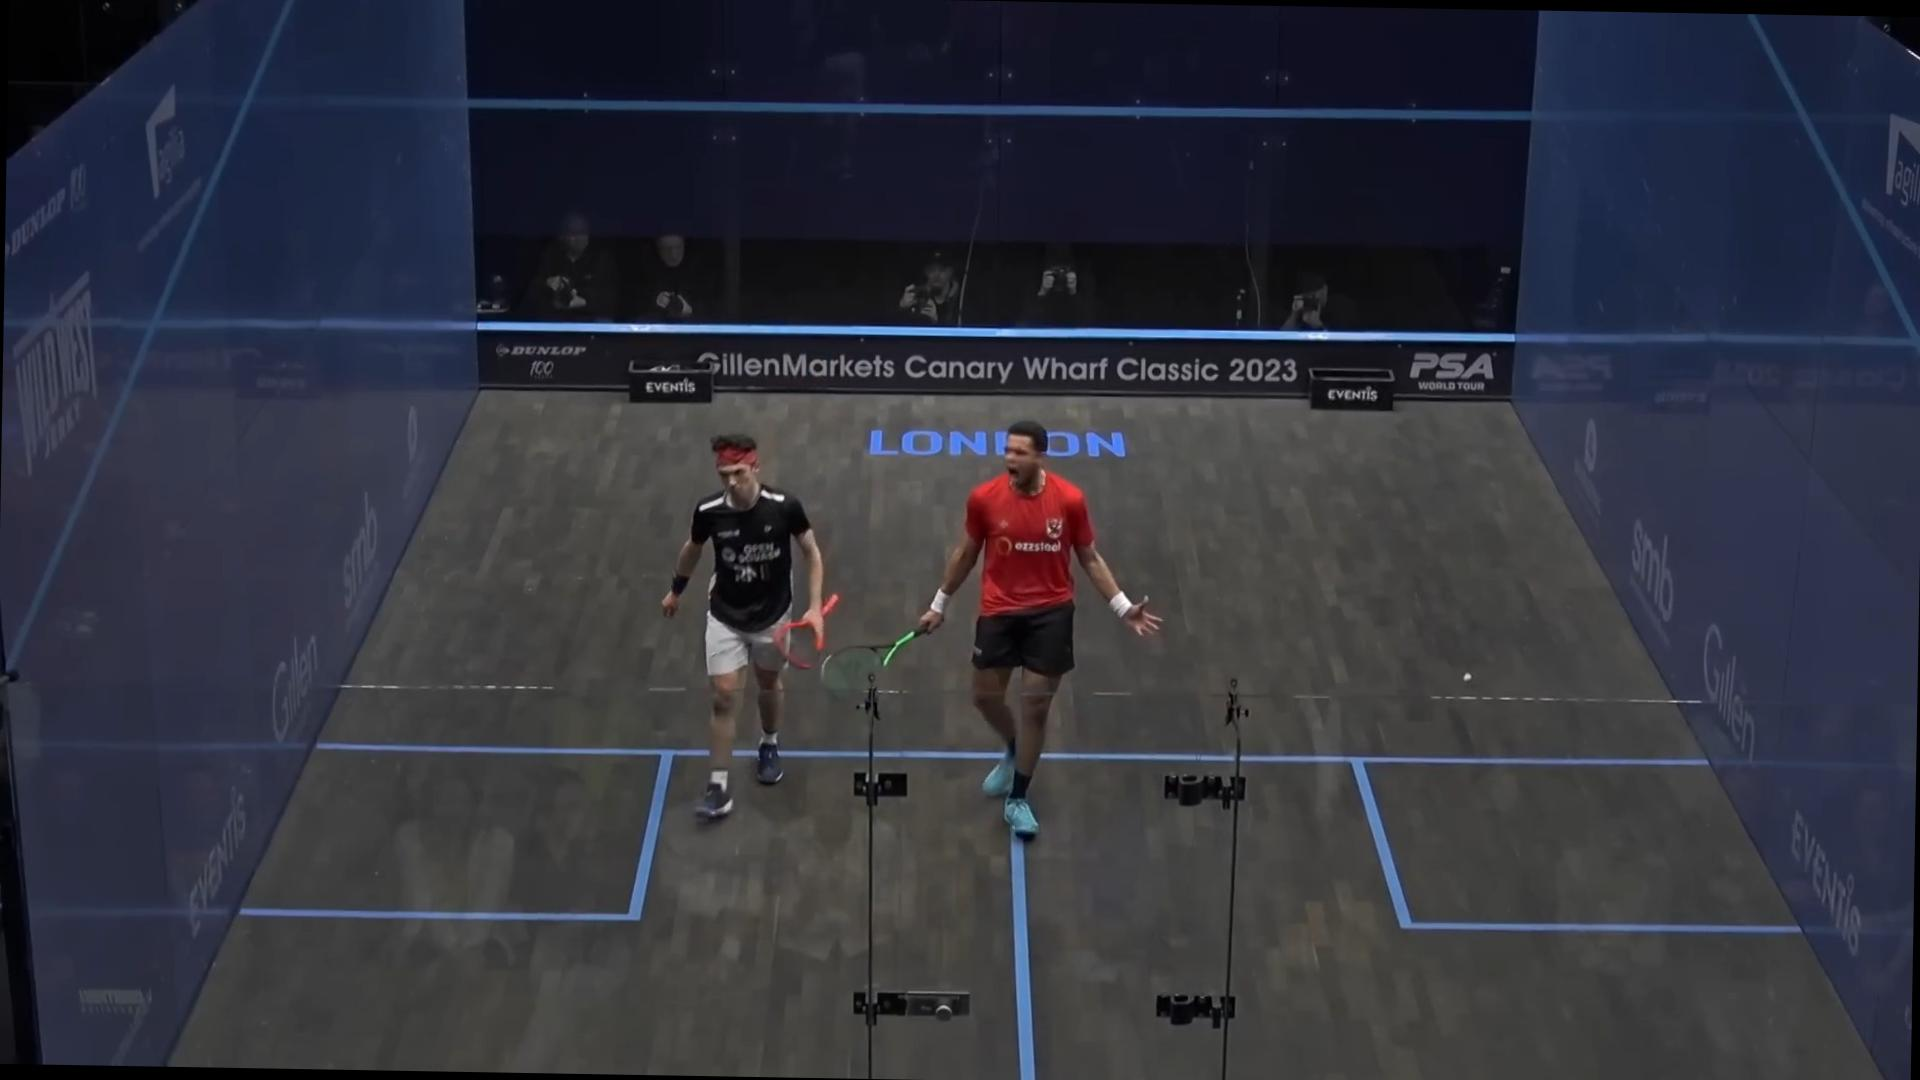Racket: (818, 621, 934, 711), (774, 588, 857, 679)
